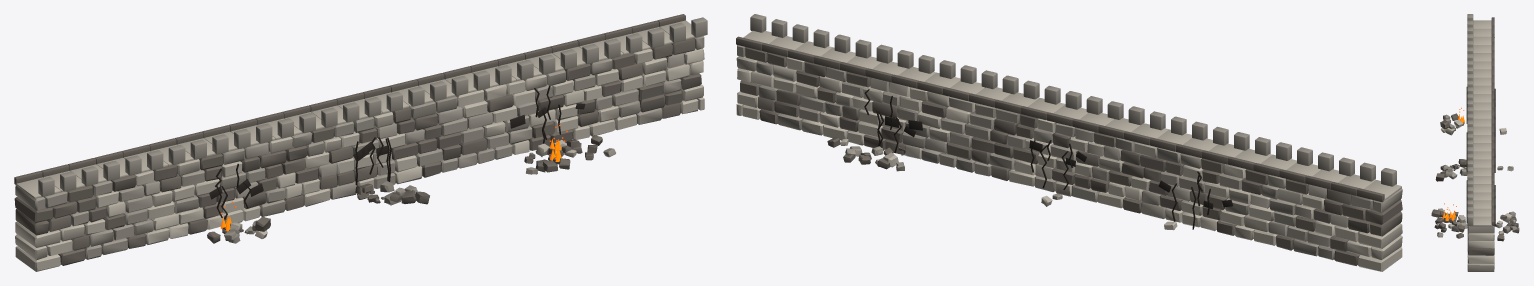
File: mur_bok_etap4.glb
3 views of the same model, side by side, from view 1: azimuth 30°, elevation 25°; view 2: azimuth 150°, elevation 25°; view 3: azimuth 270°, elevation 25° (orthographic). The views are drawn at different scales.
Parts seen in each view (by area): view 1: mur_bok_etap4; view 2: mur_bok_etap4; view 3: mur_bok_etap4.
Part boxes in pixels (<box>): mur_bok_etap4: <box>14,14,707,271</box>; mur_bok_etap4: <box>736,14,1402,271</box>; mur_bok_etap4: <box>1431,14,1519,271</box>.
Bounding box in the file's own units: 40.15 × 5.28 × 7.27.
